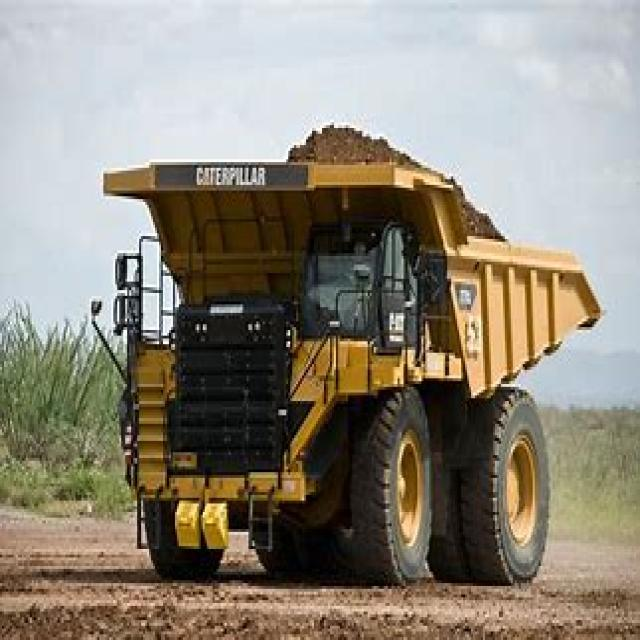dump_truck: (90, 102, 590, 598)
